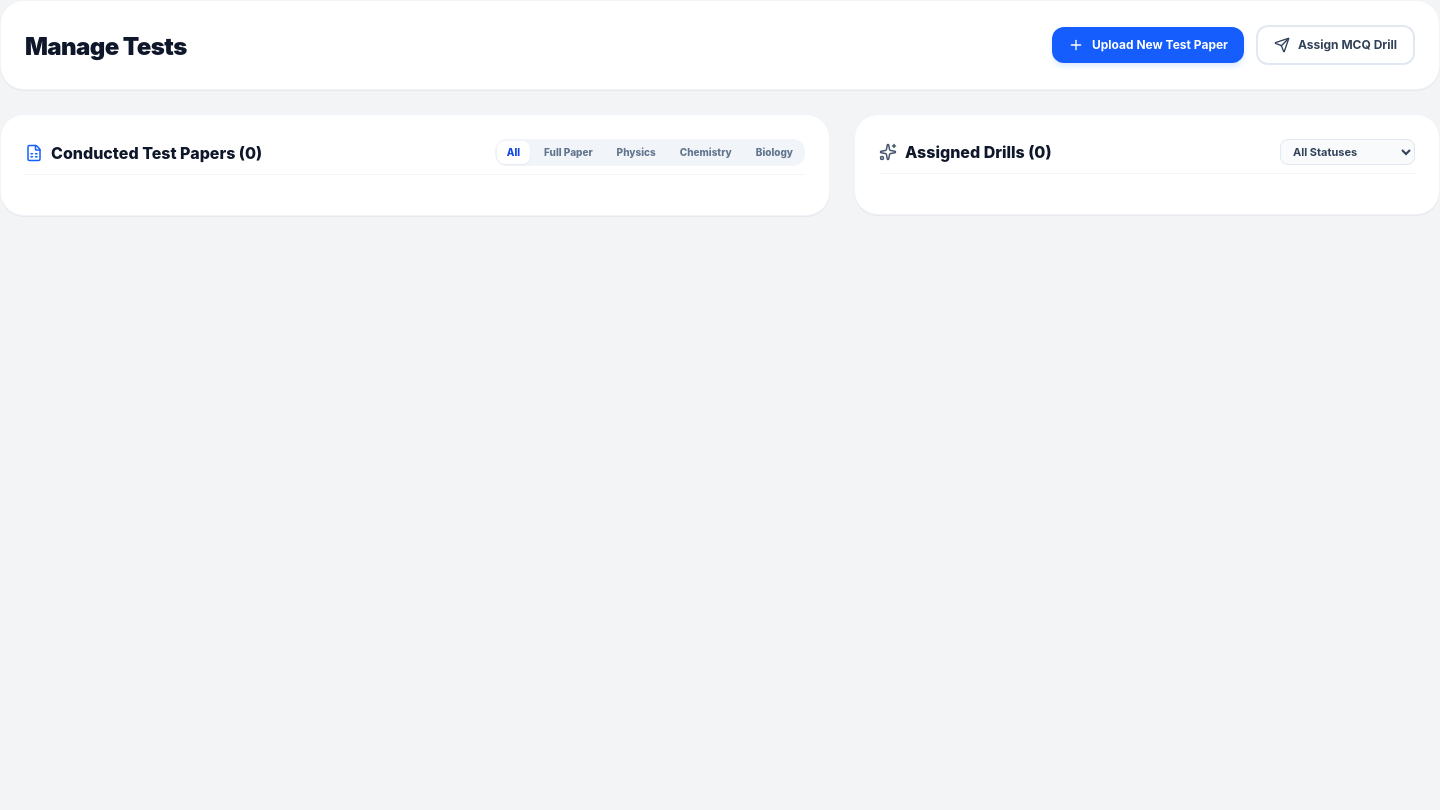
Scenario: Teacher Portal Adversarial & Edge Case Verification Suite › 4. Test Paper Creation & Answer Key Grid › creates targeted MCQ assignment from TestManagement page
The width and height of the screenshot is (1440, 810).
Click the button "Assign MCQ Drill".
click(1336, 45)  # box [1256,25,1415,65]
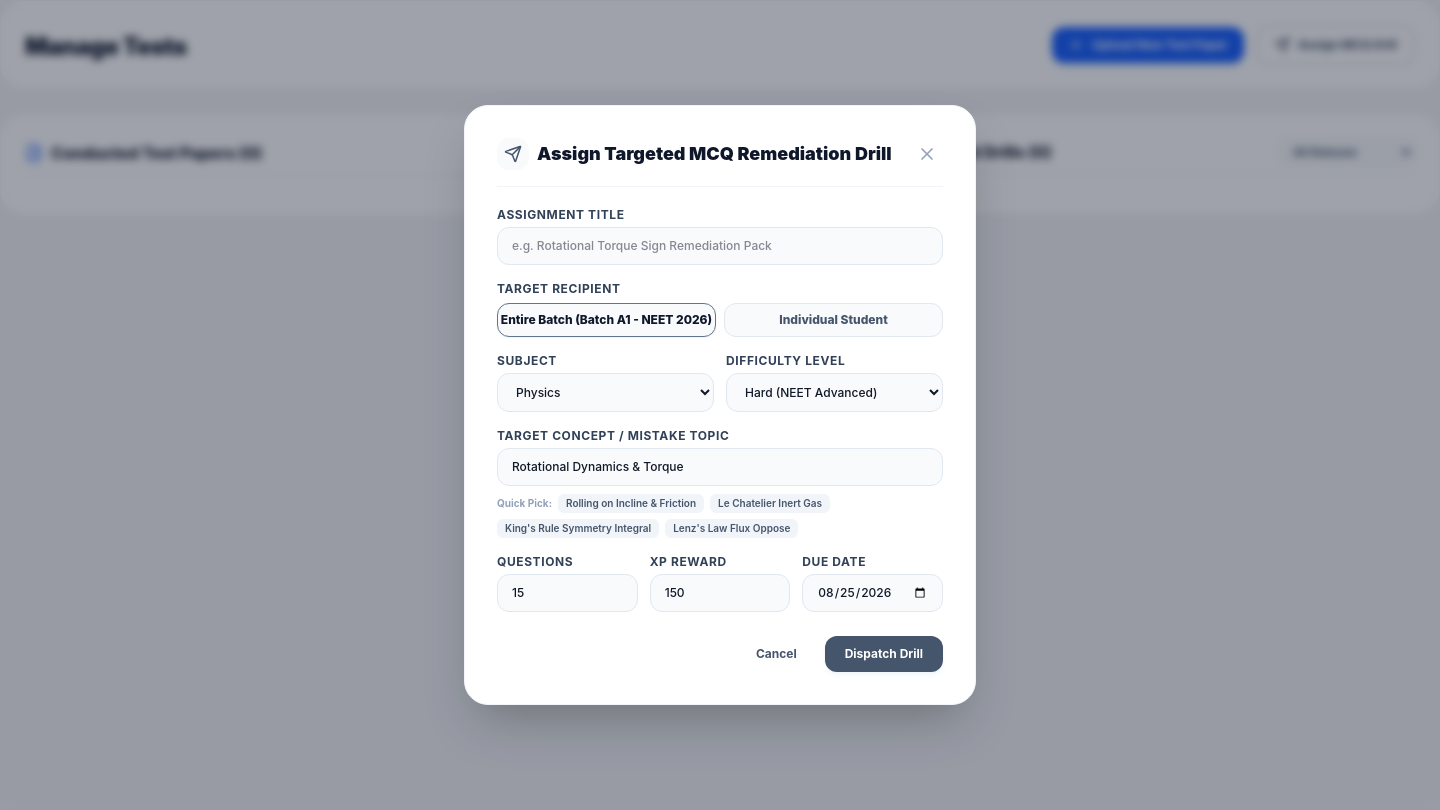
Now the heading "Assign Targeted MCQ Remediation Drill" is shown, box [537,140,892,168]
// Select Individual Student target
Click the button "Individual Student".
click(834, 320)  # box [724,303,943,337]
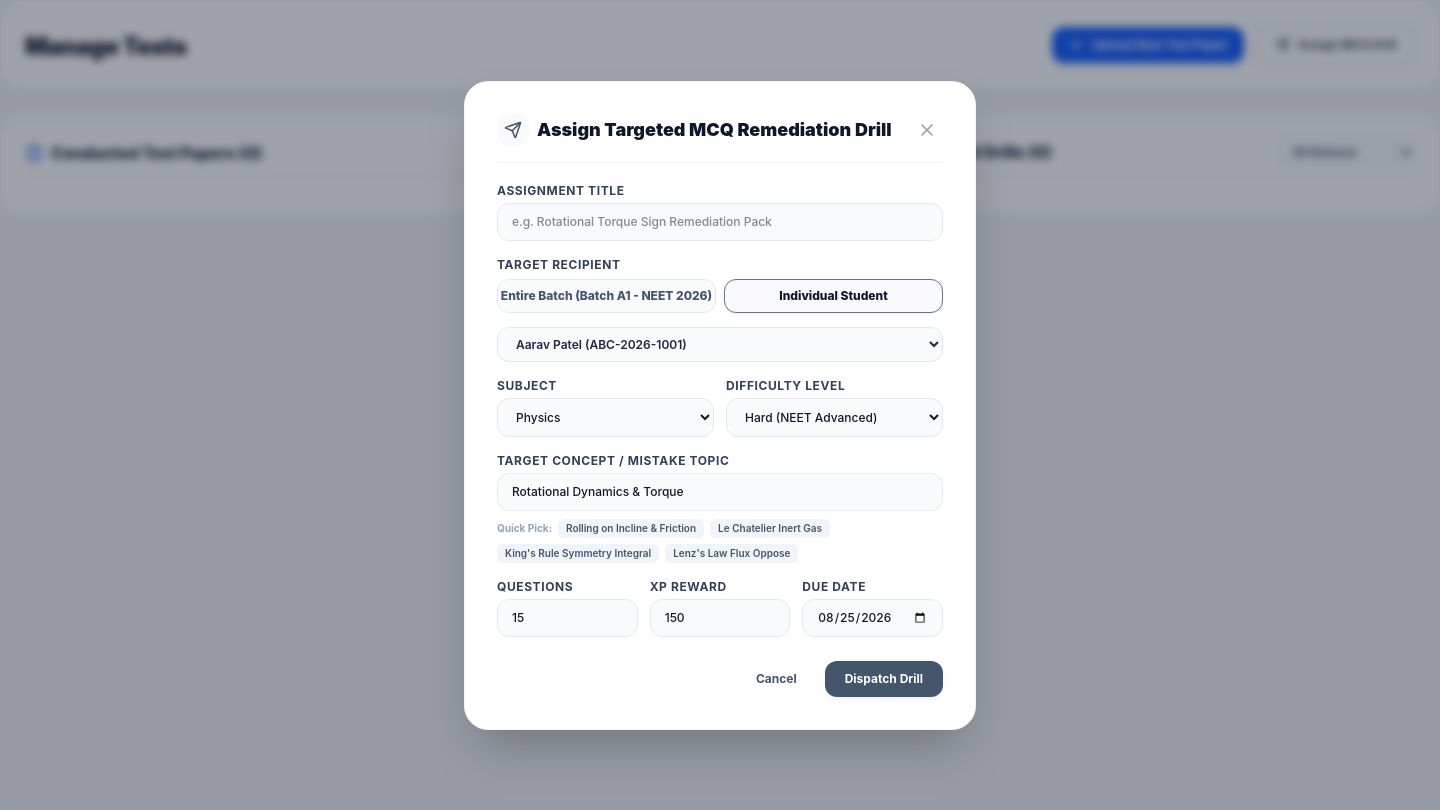
// Fill title
Type "Optics Ray Diagram Drill" into the field with placeholder "e.g. Rotational Torque Sign Remediation Pack".
click(720, 222); type("Optics Ray Diagram Drill")  # box [497,202,943,240]
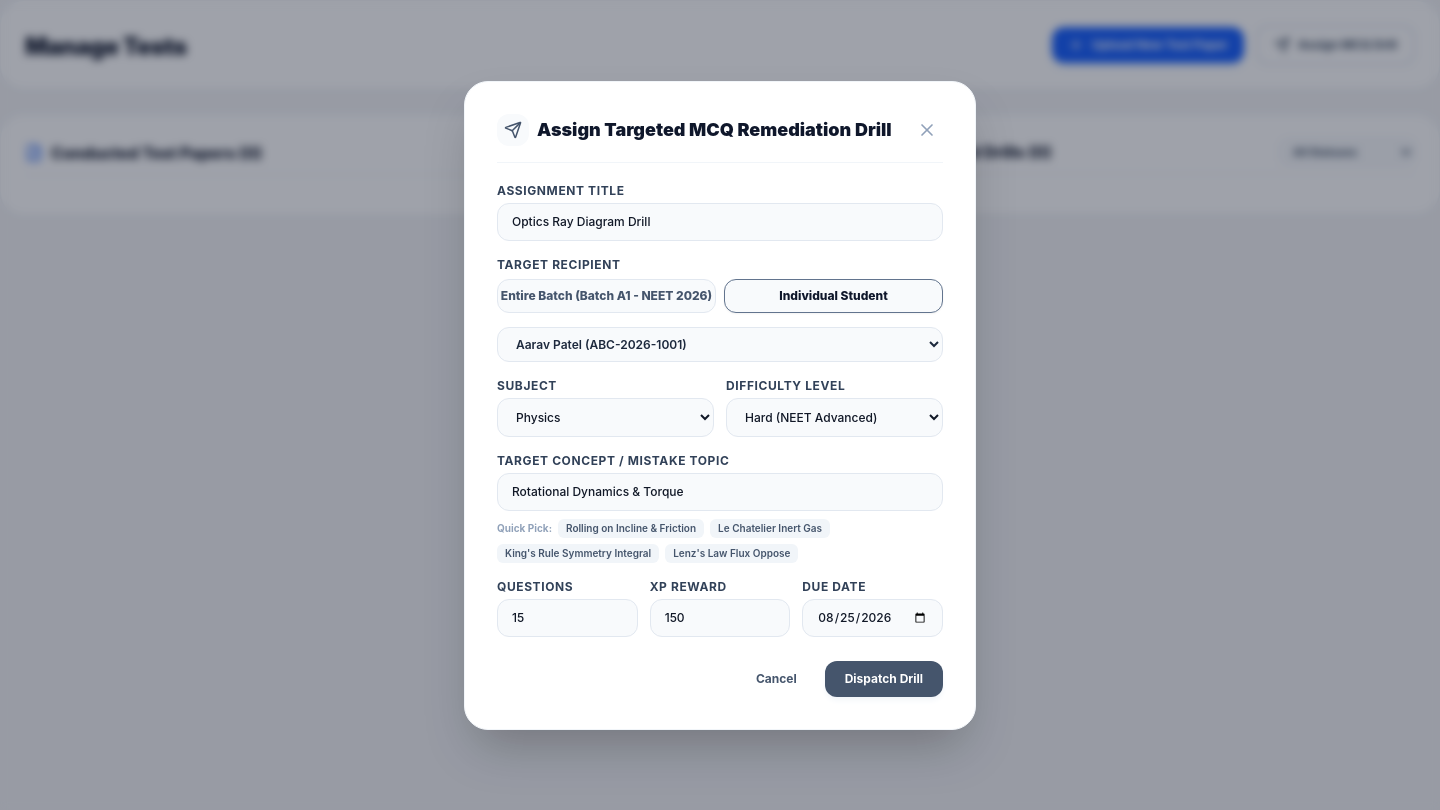
// Click Quick Pick suggestion
Click the button "Rolling on Incline & Friction".
click(631, 528)  # box [558,518,704,538]
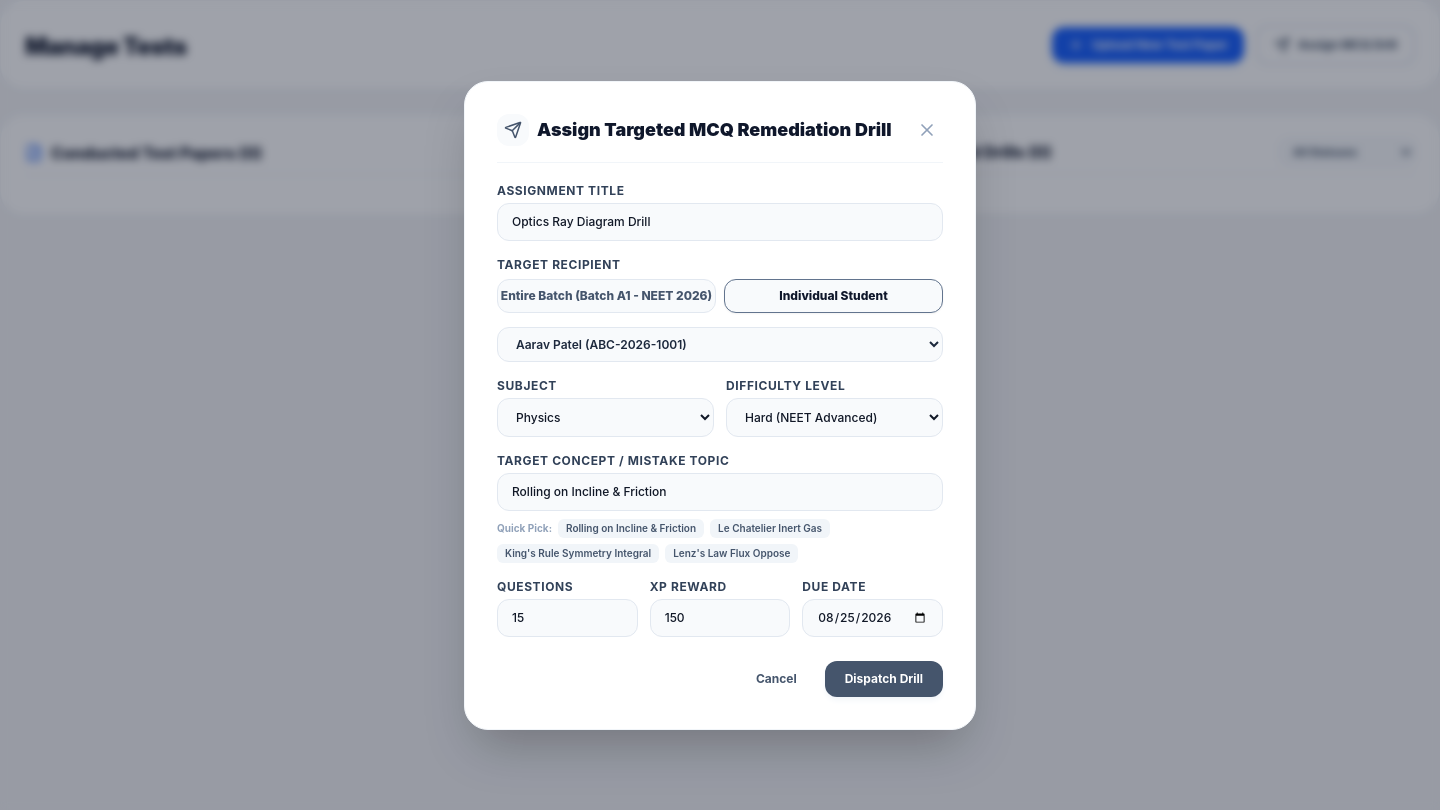
// Submit assignment
Click the button "Dispatch Drill".
click(884, 678)  # box [825,660,943,696]
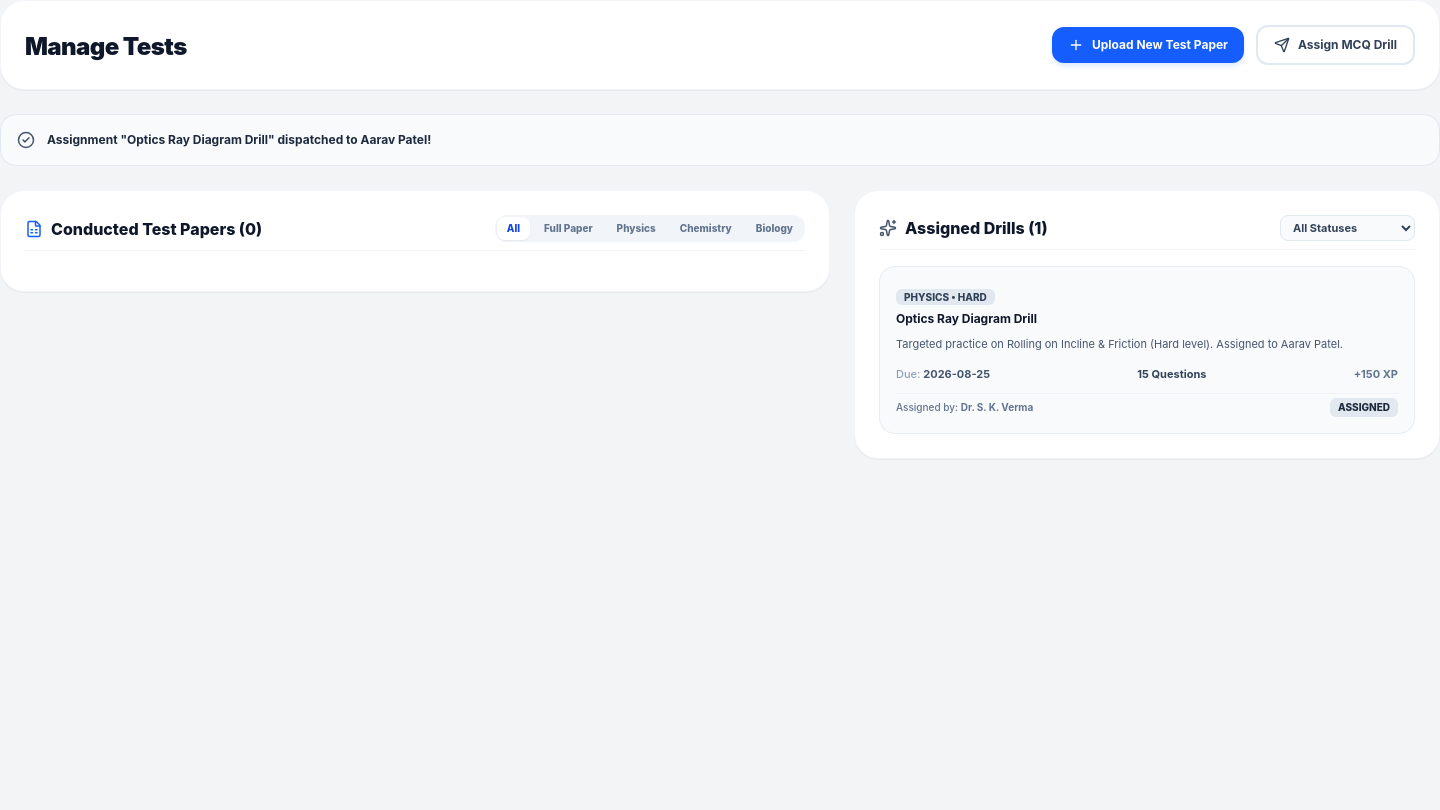
Now the text "dispatched to" is shown, box [47,132,431,147]
Now the heading "Optics Ray Diagram Drill" is shown, box [896,311,1037,327]
